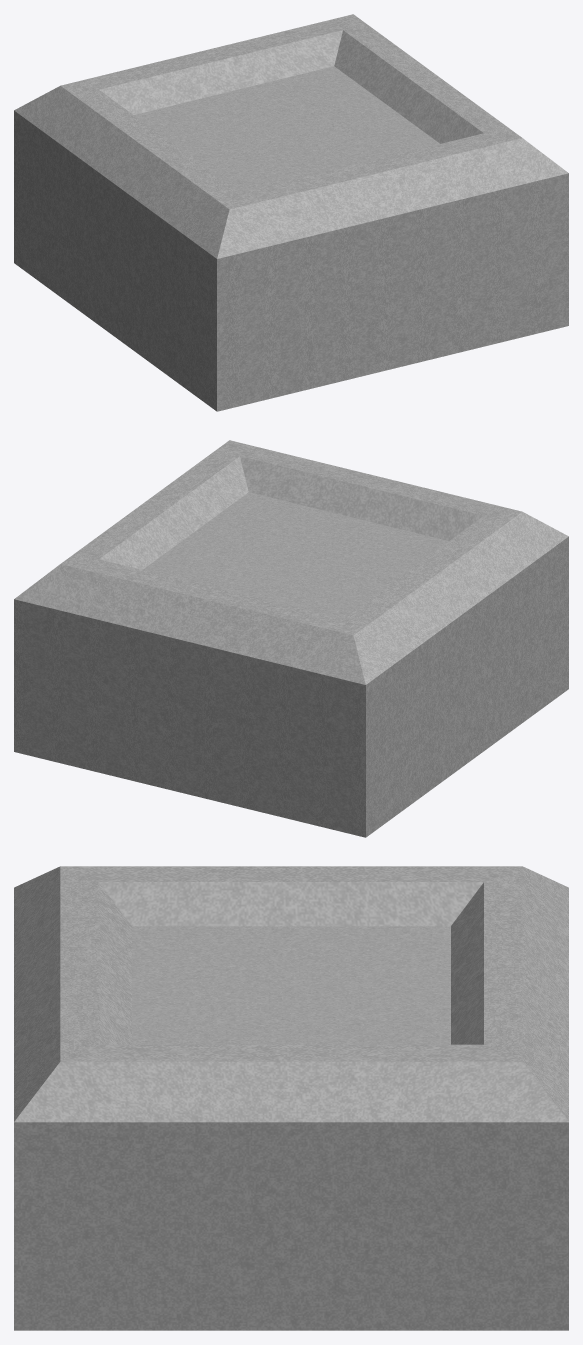
Rendered from cube-subdivided.obj.
The picture shows the model from 3 angles, top to bottom: view 1: azimuth 30°, elevation 25°; view 2: azimuth 150°, elevation 25°; view 3: azimuth 270°, elevation 25°; orthographic projection. The views are drawn at different scales.
Parts seen in each view (by area): view 1: Cube; view 2: Cube; view 3: Cube.
Boxes of the visible parts, x1=… form: Cube: x1=14, y1=14, x2=568, y2=411; Cube: x1=14, y1=440, x2=568, y2=837; Cube: x1=14, y1=866, x2=568, y2=1330.
Size of the model in its own units: 1.98 by 0.9828 by 1.98.
Materials: 1 (1 with a texture image).
